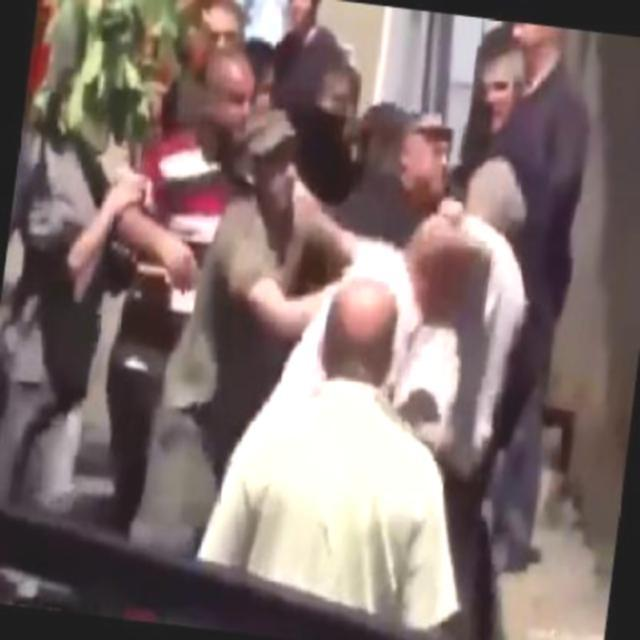fight: (195, 128, 540, 374)
